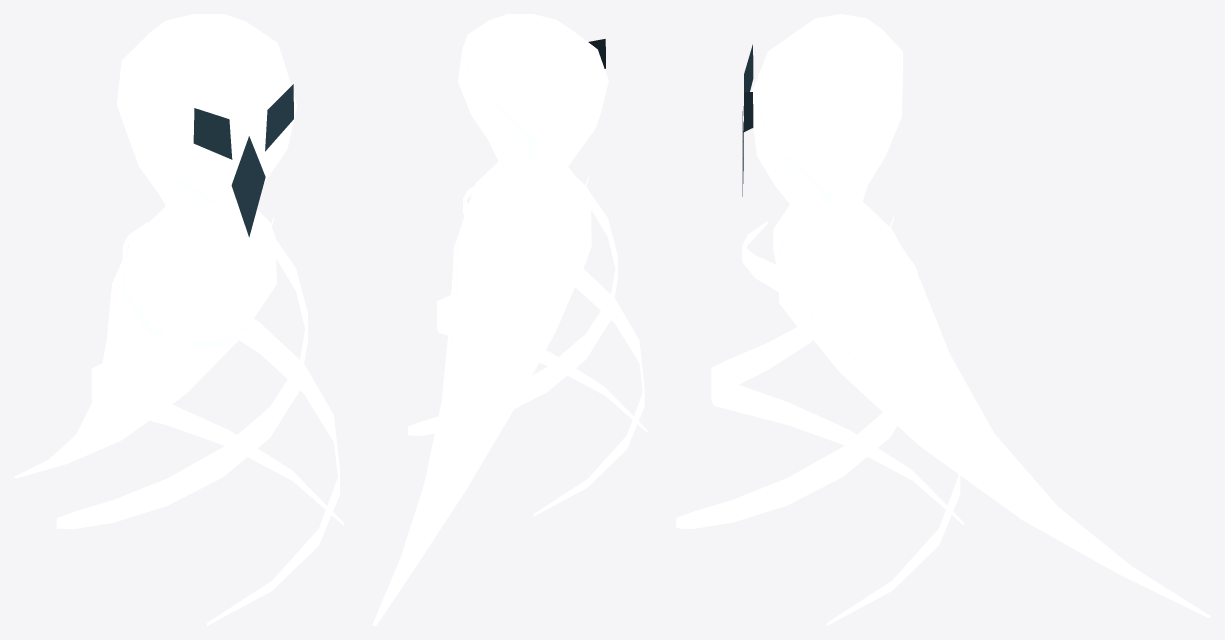
Rendered from soul_components.glb.
3 views of the same model, side by side, from view 1: azimuth 30°, elevation 25°; view 2: azimuth 150°, elevation 25°; view 3: azimuth 270°, elevation 25° (orthographic). The views are drawn at different scales.
Parts seen in each view (by area): view 1: SpectralBody, OuterWisps, FaceHint, SoulCore; view 2: SpectralBody, OuterWisps; view 3: SpectralBody, OuterWisps, FaceHint.
Part boxes in pixels (x1,y1,x2,y2): SpectralBody: (14, 14, 297, 478); OuterWisps: (56, 217, 343, 625); FaceHint: (193, 84, 293, 237); SoulCore: (203, 292, 257, 336); SpectralBody: (372, 14, 608, 625); OuterWisps: (408, 175, 647, 516); SpectralBody: (752, 14, 1210, 617); OuterWisps: (676, 216, 963, 625); FaceHint: (742, 44, 753, 196).
Size of the model in its own units: 1.06 by 2.3 by 1.89.
